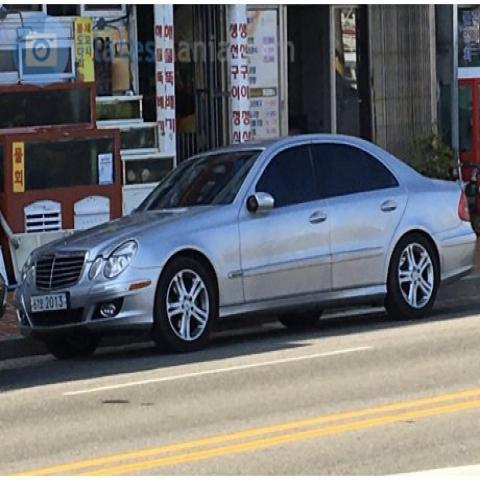LP: (23, 290, 78, 316)
